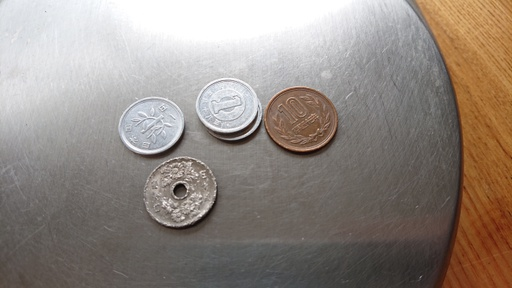10yen: (264, 86, 337, 153)
1yen: (118, 97, 183, 153), (195, 78, 257, 133)
50yen: (144, 157, 217, 229)
